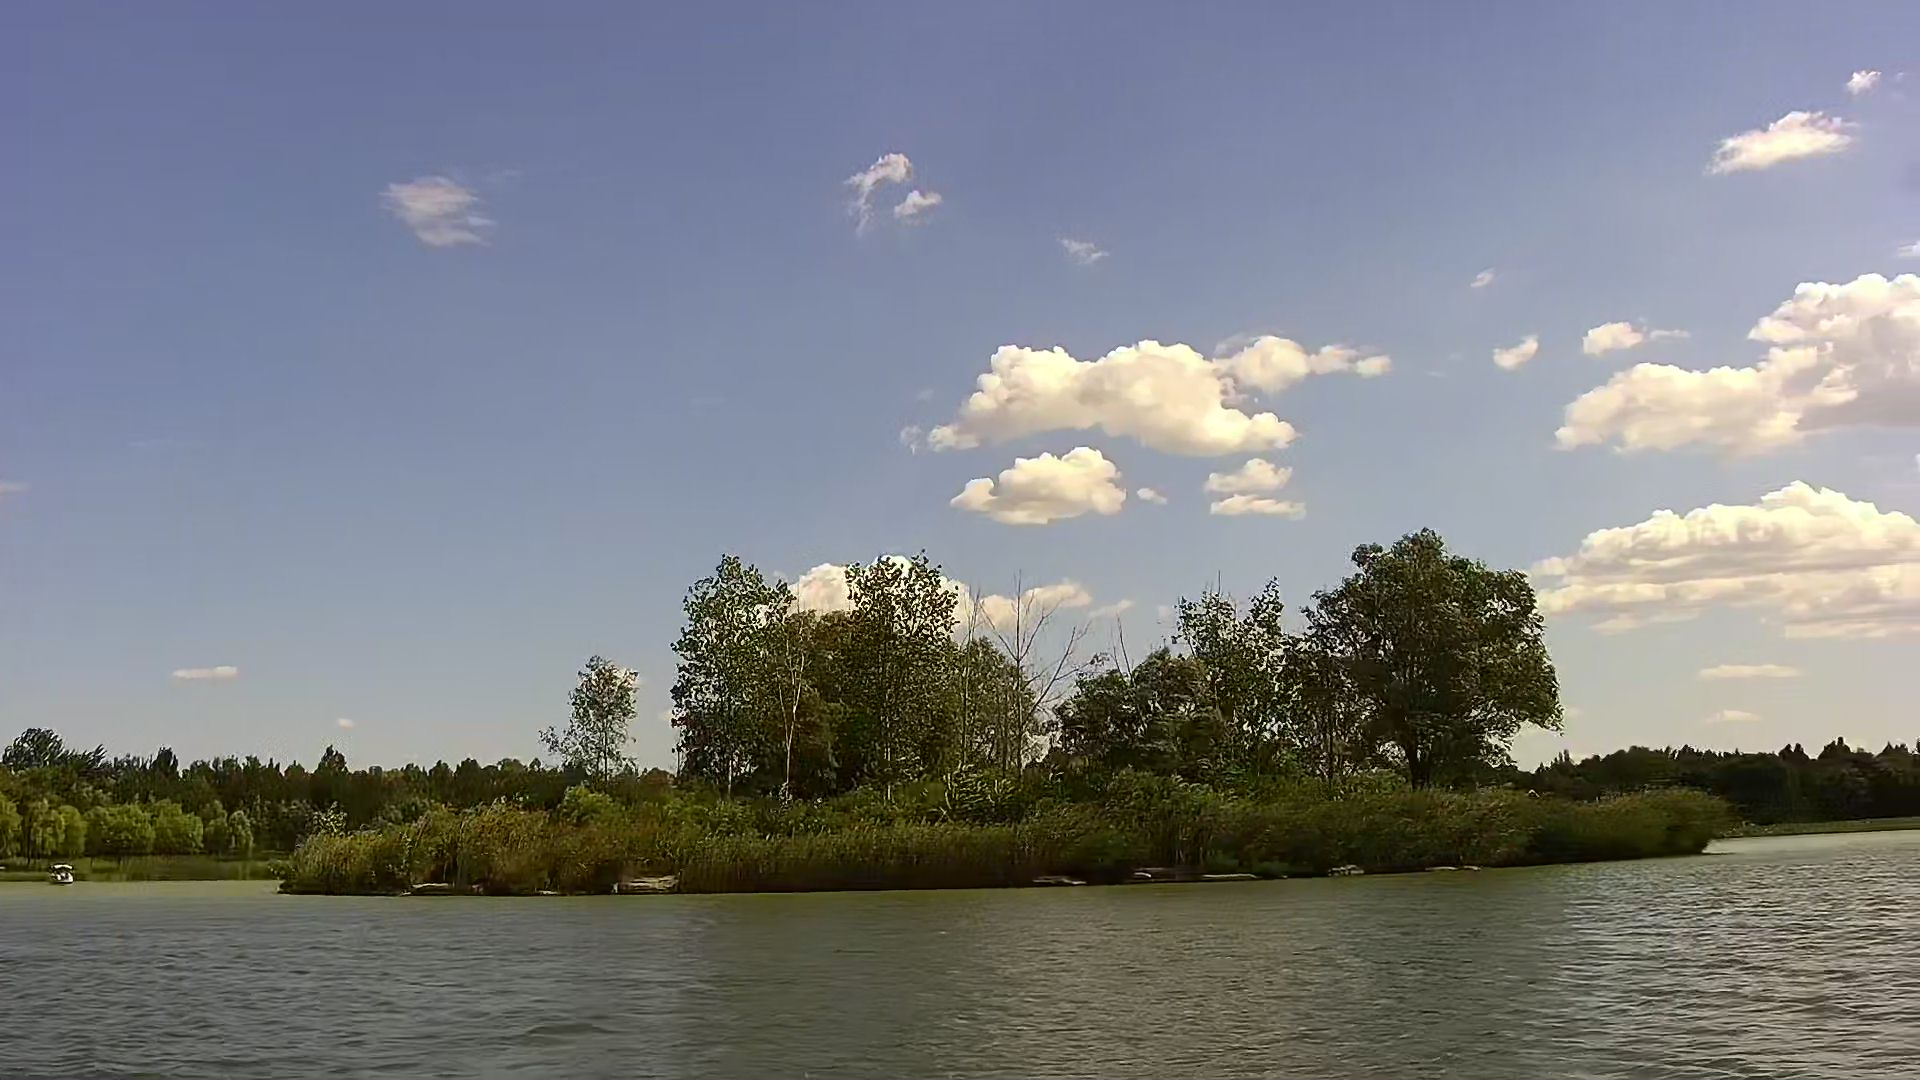rock: (618, 872, 666, 889)
